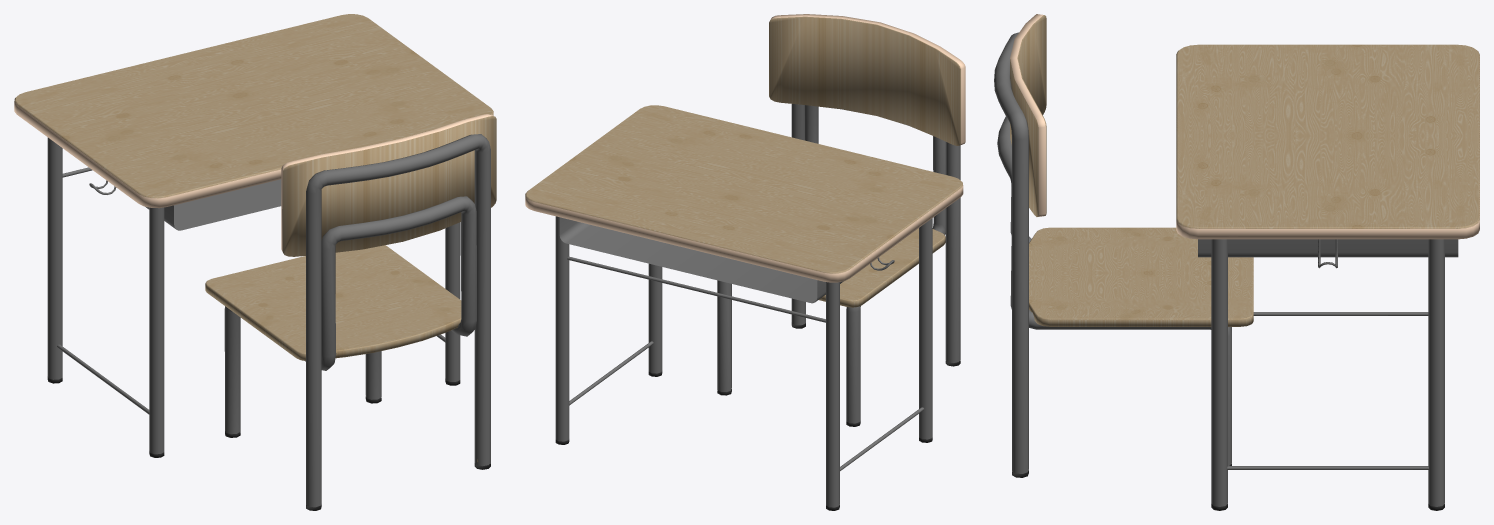
Rendered from School_desk.fbx.
The picture shows the model from 3 angles, left to right: view 1: azimuth 30°, elevation 25°; view 2: azimuth 150°, elevation 25°; view 3: azimuth 270°, elevation 25°; orthographic projection. The views are drawn at different scales.
Parts seen in each view (by area): view 1: Desk_e, Chair_e; view 2: Desk_e, Chair_e; view 3: Desk_e, Chair_e.
Boxes of the visible parts, x1,y1,x2,y2 form: Desk_e: [14, 14, 493, 457]; Chair_e: [205, 114, 496, 510]; Desk_e: [525, 105, 963, 510]; Chair_e: [717, 14, 965, 426]; Desk_e: [1176, 44, 1479, 510]; Chair_e: [994, 14, 1253, 477].
Size of the model in its own units: 100 by 94.66 by 112.
